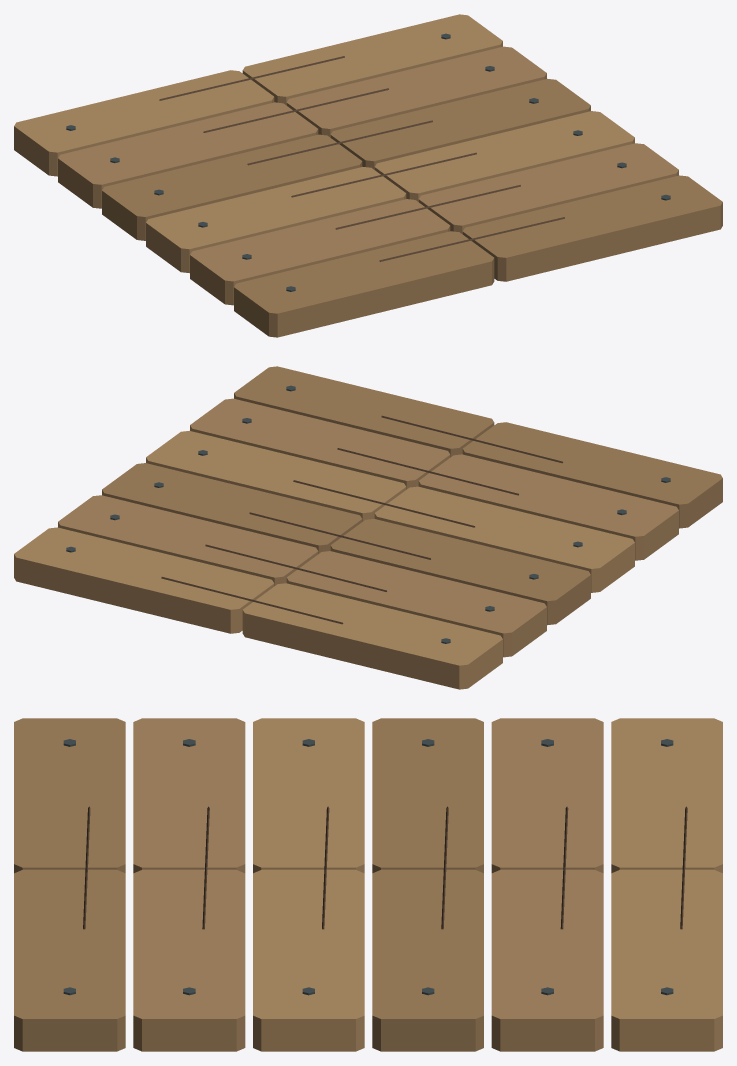
File: path_wood_b.glb
The picture shows the model from 3 angles, top to bottom: view 1: azimuth 30°, elevation 25°; view 2: azimuth 150°, elevation 25°; view 3: azimuth 270°, elevation 25°; orthographic projection. The views are drawn at different scales.
Parts seen in each view (by area): view 1: geometry; view 2: geometry; view 3: geometry.
Boxes of the visible parts, box(x1,y1,x2,y2) form: geometry: box(14, 14, 722, 337); geometry: box(14, 366, 722, 689); geometry: box(14, 718, 722, 1051).
Bounding box in the file's own units: 0.993 × 0.054 × 0.9893.
